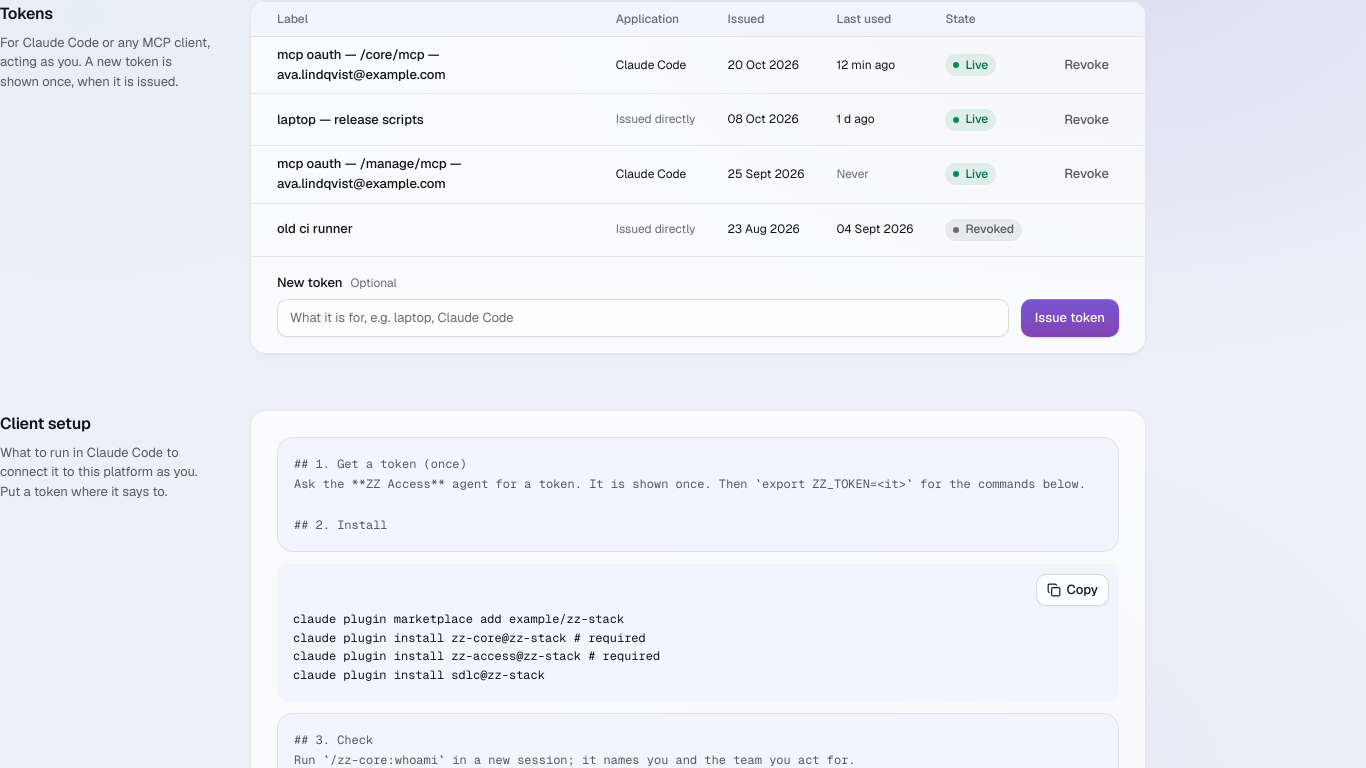
Test: a secret shown once stays out of the page text the assistant reads › draws a token issued on Access in a dialog outside the scroll region, marked omit
The width and height of the screenshot is (1366, 768).
Click the button "Issue token": (1070, 318) [1021,299,1119,337]
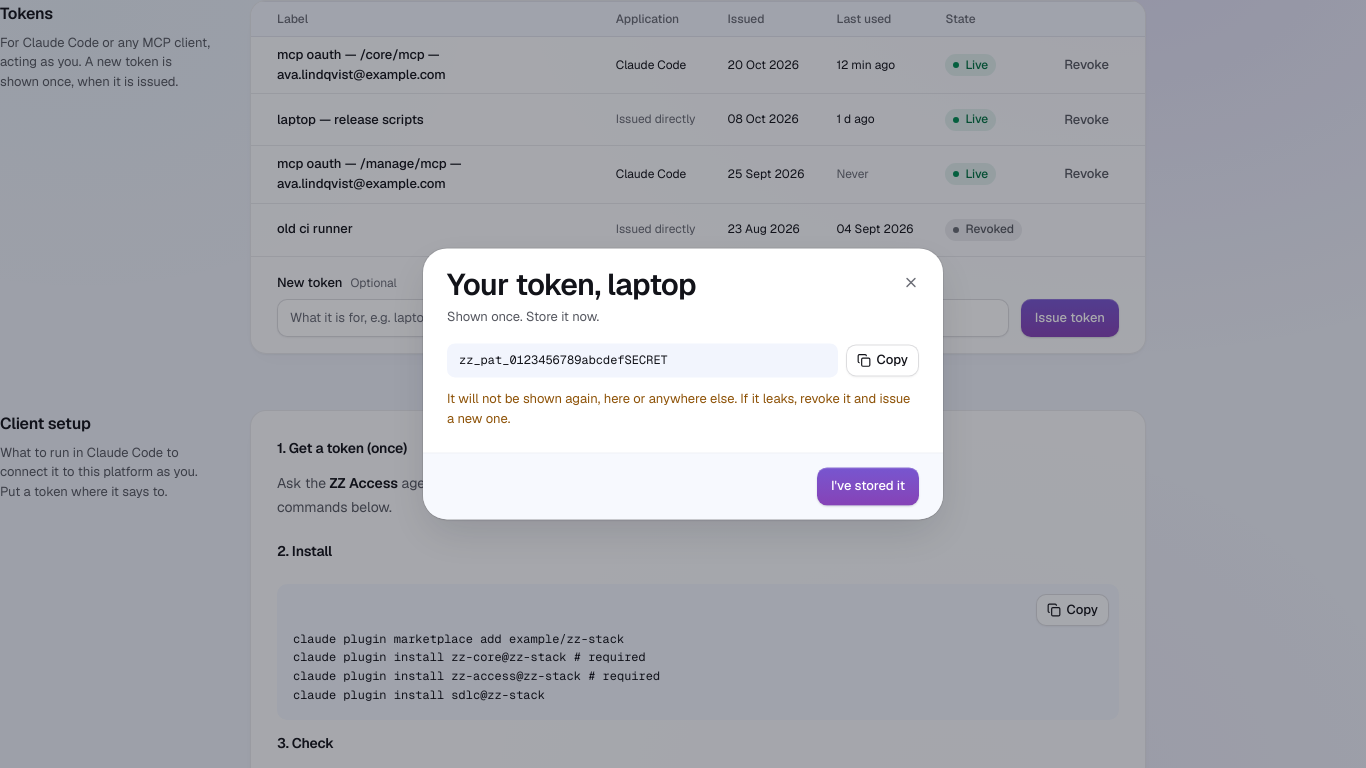
Expected: the text "zz_pat_0123456789abcdefSECRET" is not shown
Now the text "zz_pat_0123456789abcdefSECRET" is shown, box [447,343,838,378]
